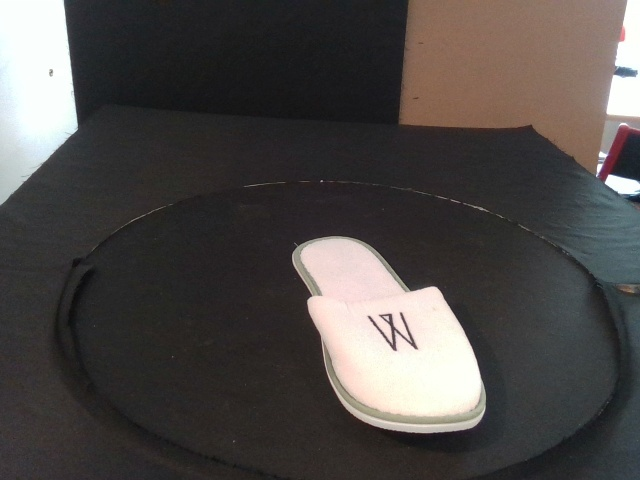shoe: (291, 235, 488, 435)
